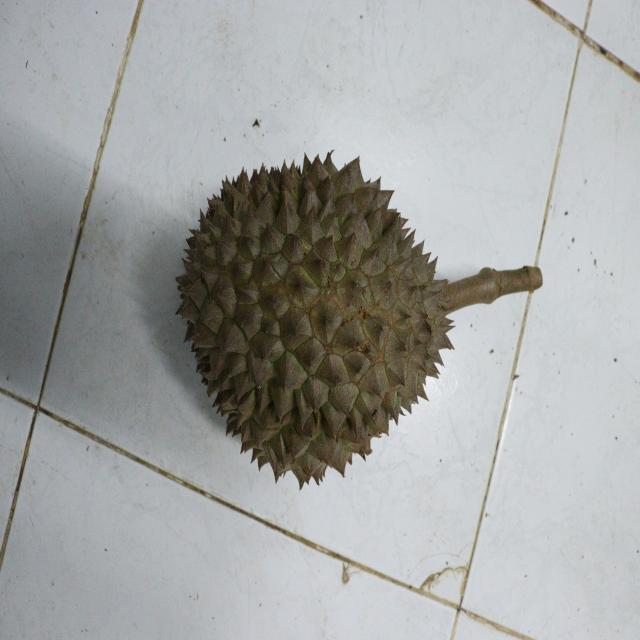mature: (170, 150, 456, 492)
